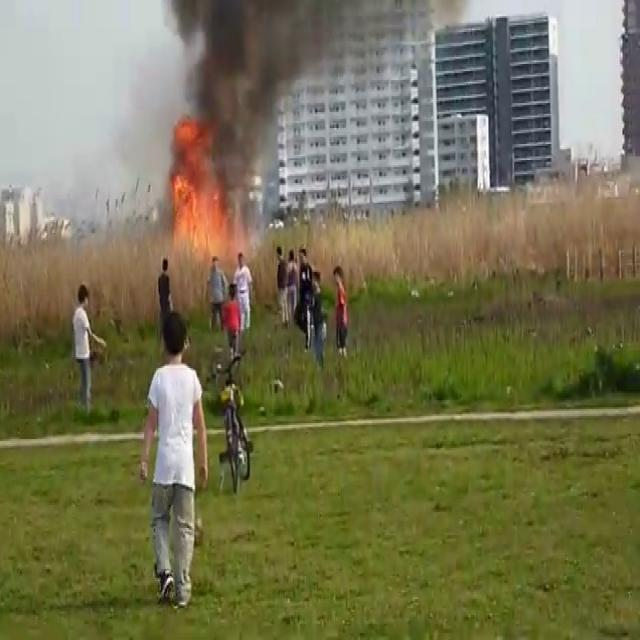Fire: (159, 130, 242, 266)
Smoke: (143, 0, 332, 204)
